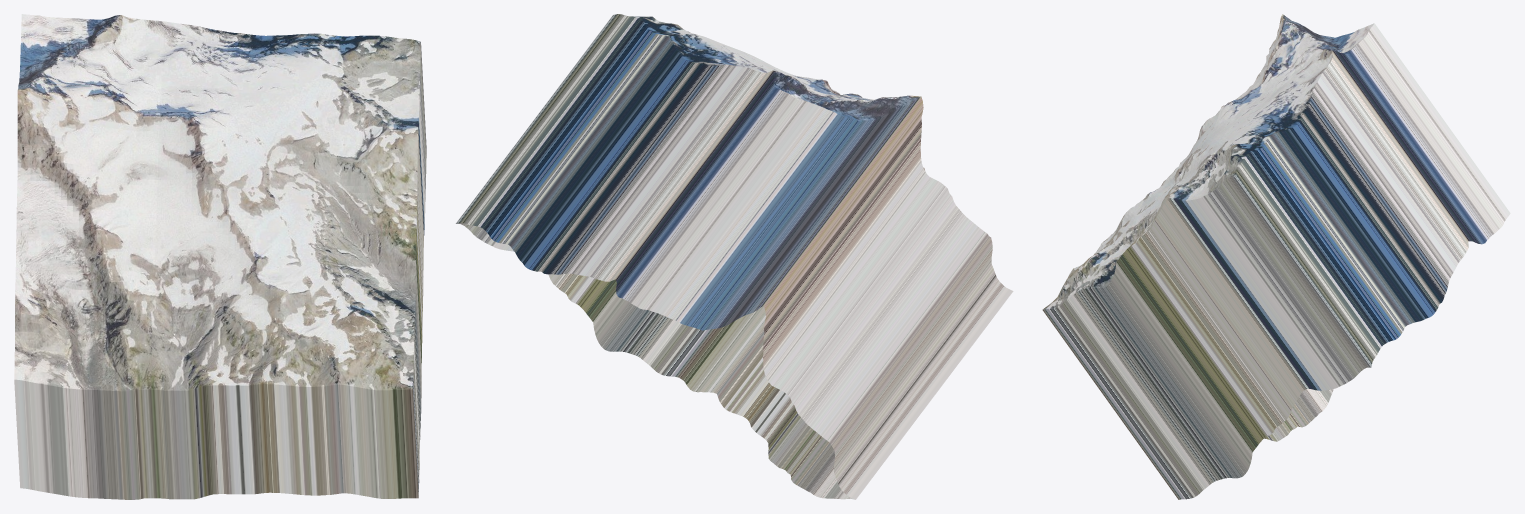
3 renders of one model, left to right at view 1: azimuth 30°, elevation 25°; view 2: azimuth 150°, elevation 25°; view 3: azimuth 270°, elevation 25°, orthographic. The views are drawn at different scales.
Size of the model in its own units: 6138 by 5340 by 6006.
1 material, 1 textured.
